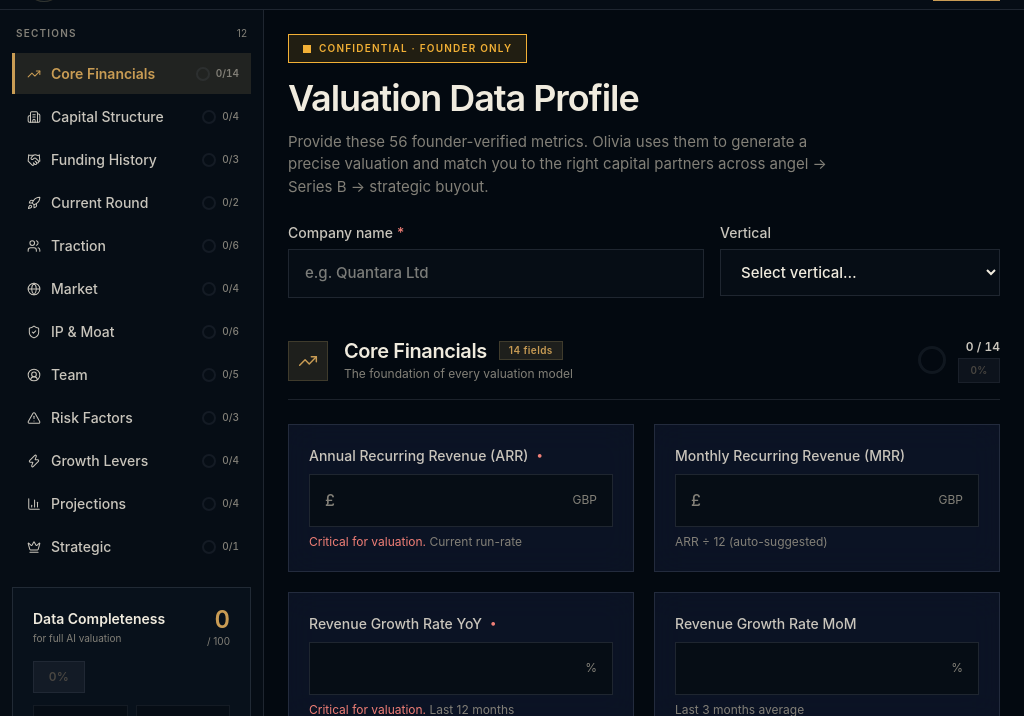
Test: IntakeForm — Q6 vertical metamorphism › preserves a prior vertical's entries when switching back
The width and height of the screenshot is (1024, 716).
Select "AI / SaaS" in the dropdown labelled "Vertical": (860, 273) [720,249,1000,296]
(page scrolled)
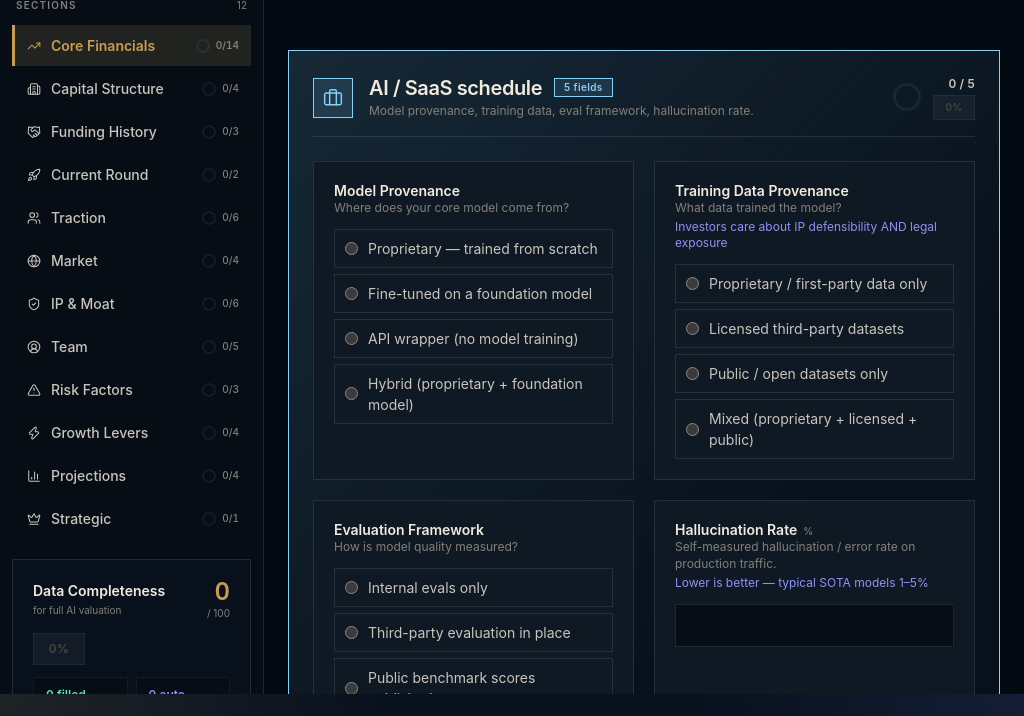
Click the radio button labelled "API wrapper (no model training)": (352, 338) [345,332,358,345]
(page scrolled)
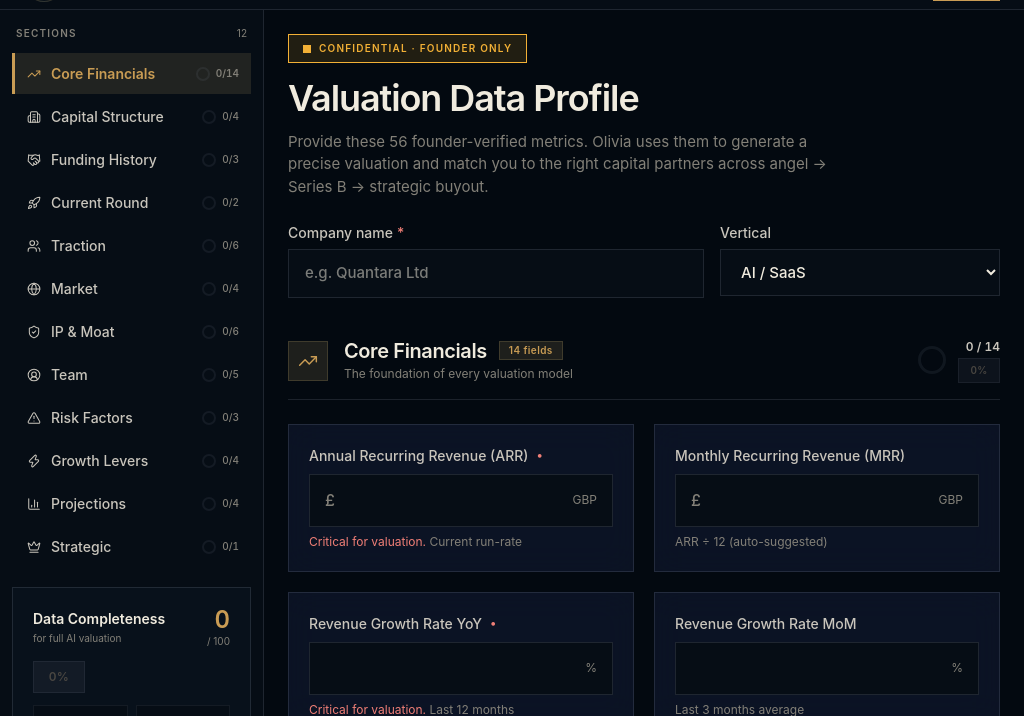
Select "ClimateTech" in the dropdown labelled "Vertical": (860, 273) [720,249,1000,296]
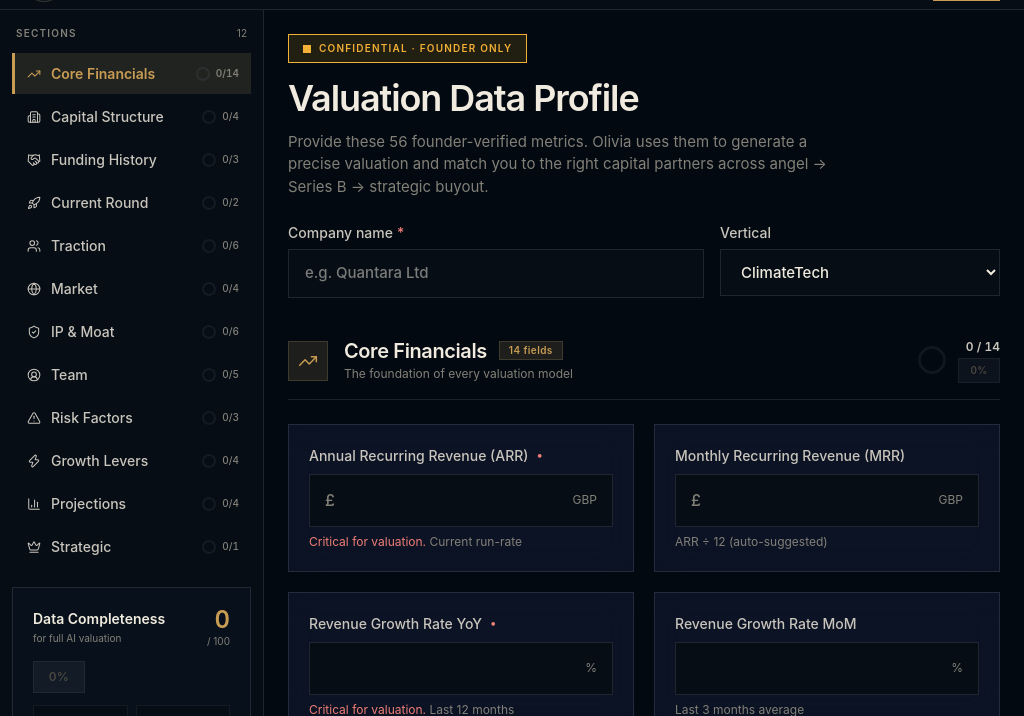
Select "AI / SaaS" in the dropdown labelled "Vertical": (860, 273) [720,249,1000,296]
(page scrolled)
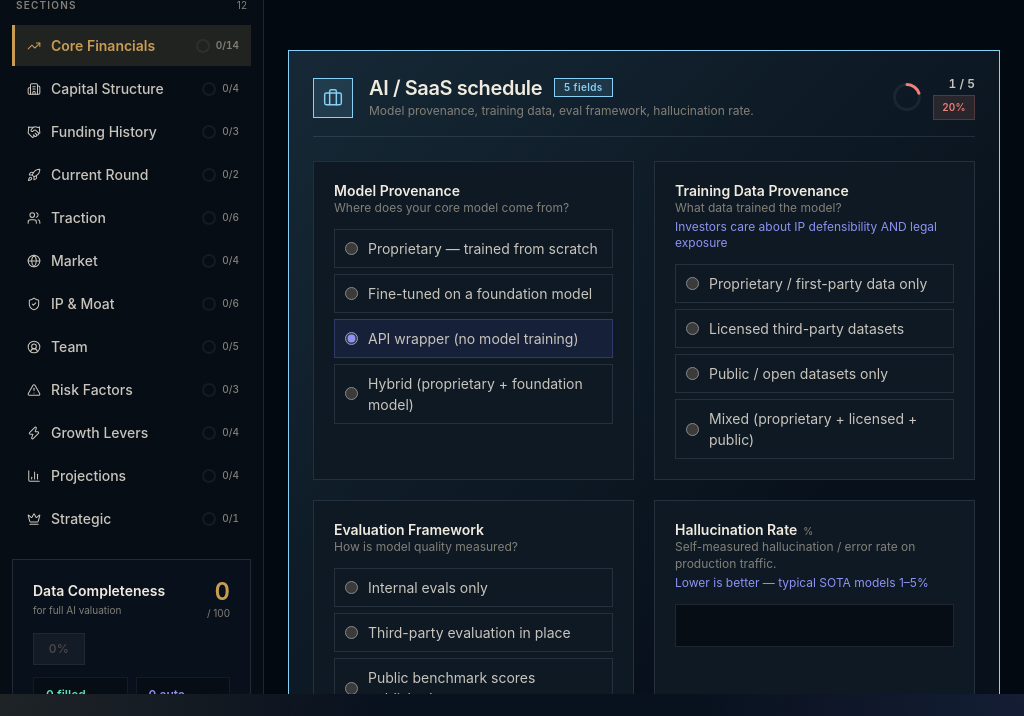
Result: the radio button labelled "API wrapper (no model training)" is checked at [345,332,358,345]
